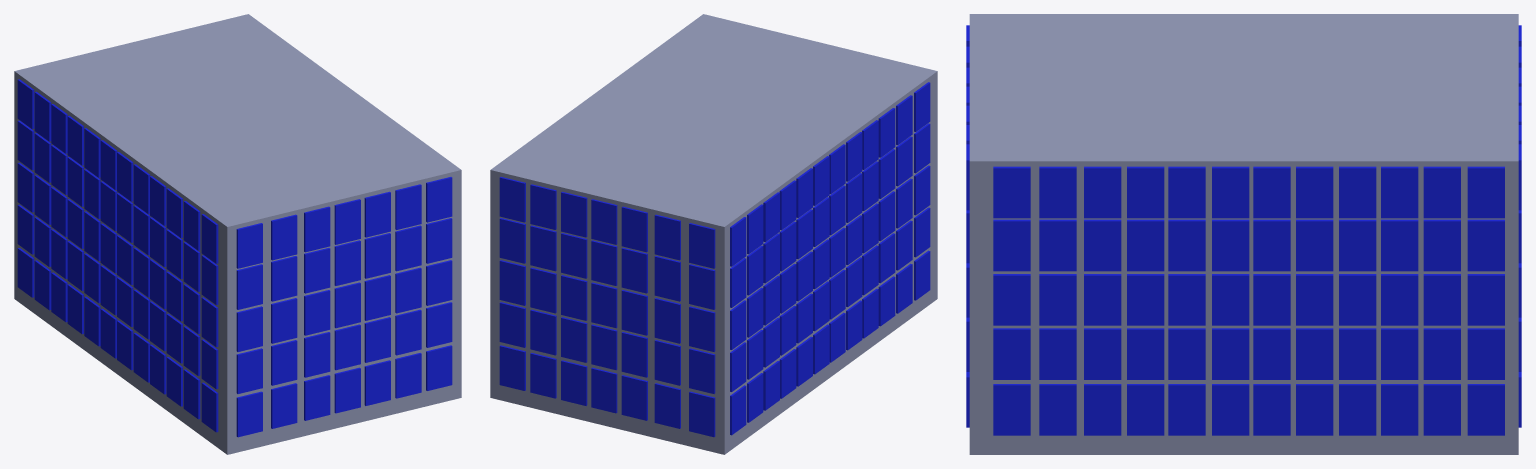
File: building_2.fbx
The picture shows the model from 3 angles, left to right: view 1: azimuth 30°, elevation 25°; view 2: azimuth 150°, elevation 25°; view 3: azimuth 270°, elevation 25°; orthographic projection. The views are drawn at different scales.
Visible parts, largest first — view 1: Cube.003; view 2: Cube.003; view 3: Cube.003.
Part boxes in pixels (x1=…): Cube.003: x1=14, y1=14, x2=461, y2=454; Cube.003: x1=490, y1=14, x2=937, y2=454; Cube.003: x1=966, y1=14, x2=1521, y2=454.
Bounding box in the file's own units: 5192 × 4740 × 8123.
